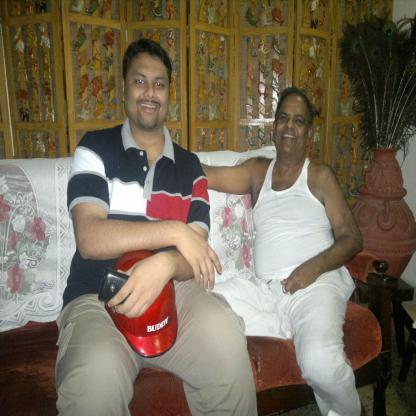vase: (351, 145, 415, 281)
